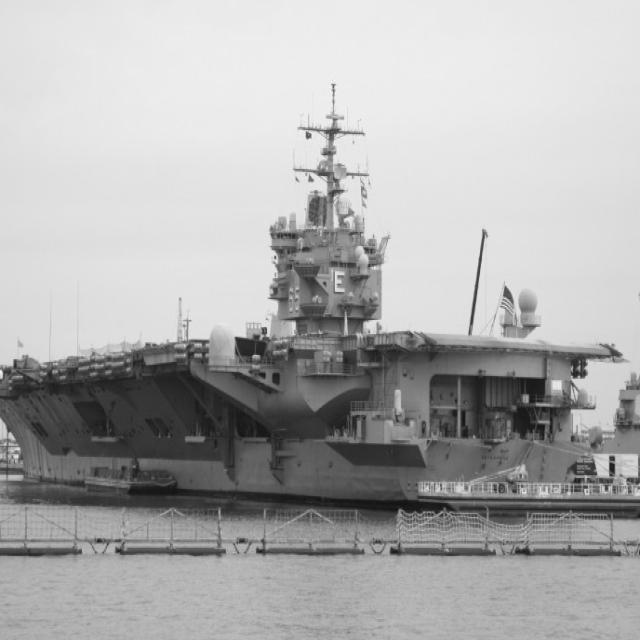Portanaves: (1, 60, 630, 496)
